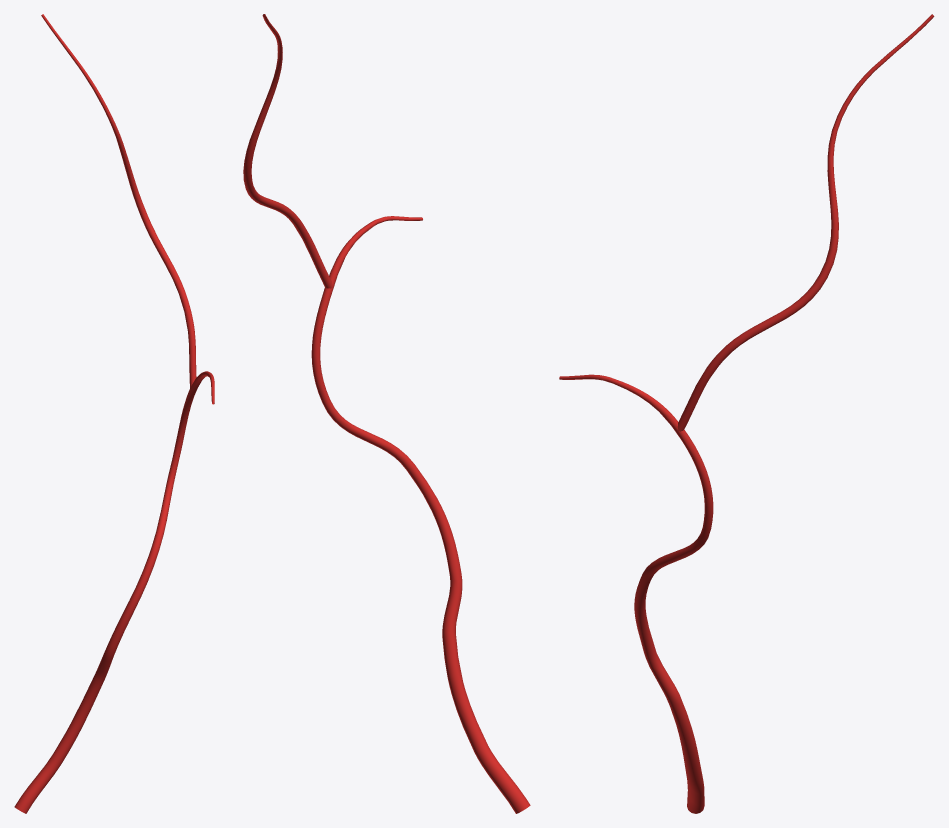
Rendered from circulatorio-superficial-temporal-veins-l.glb.
3 renders of one model, left to right at view 1: azimuth 30°, elevation 25°; view 2: azimuth 150°, elevation 25°; view 3: azimuth 270°, elevation 25°, orthographic. The views are drawn at different scales.
Parts seen in each view (by area): view 1: Superficial temporal veins.l; view 2: Superficial temporal veins.l; view 3: Superficial temporal veins.l.
Part boxes in pixels (bbox=[...]): Superficial temporal veins.l: bbox=[14, 14, 214, 813]; Superficial temporal veins.l: bbox=[243, 14, 530, 813]; Superficial temporal veins.l: bbox=[559, 14, 934, 813].
Bounding box in the file's own units: 0.0307 × 0.1095 × 0.0429.
